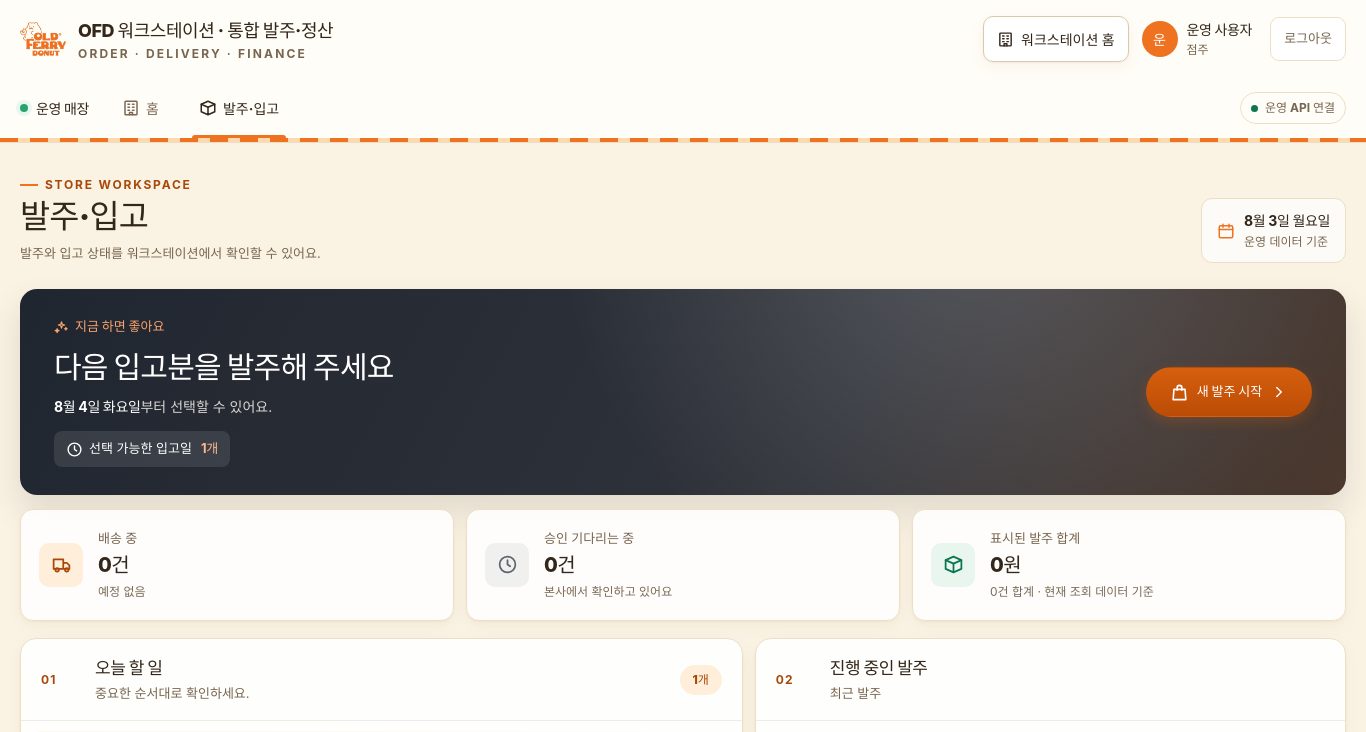
role-aware OFD workspace › starts a new live order with every product quantity at zero
Click the button "새 발주 시작" at x=1229, y=392, box [1146, 367, 1312, 417]
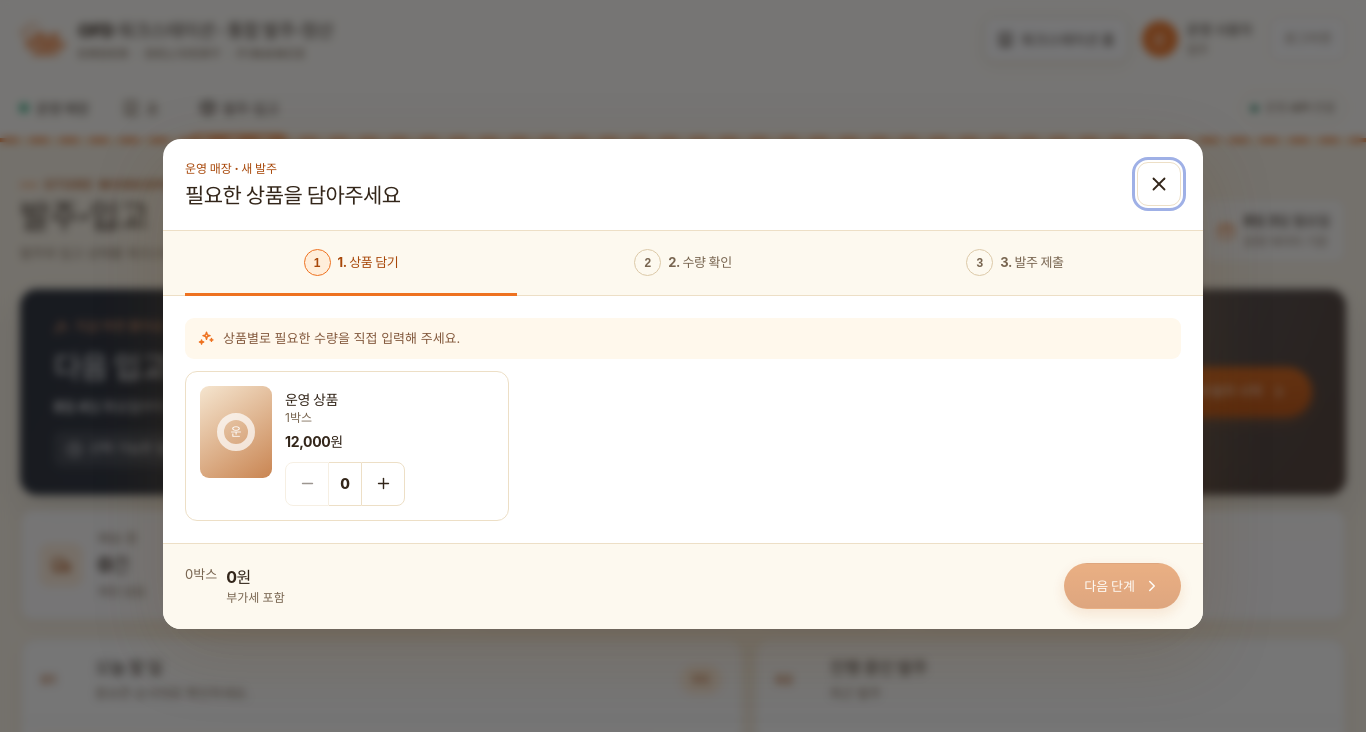
Check: the text "0" is shown, box [329, 462, 361, 506]
Check: the button "다음 단계" is disabled, box [1064, 563, 1181, 609]
